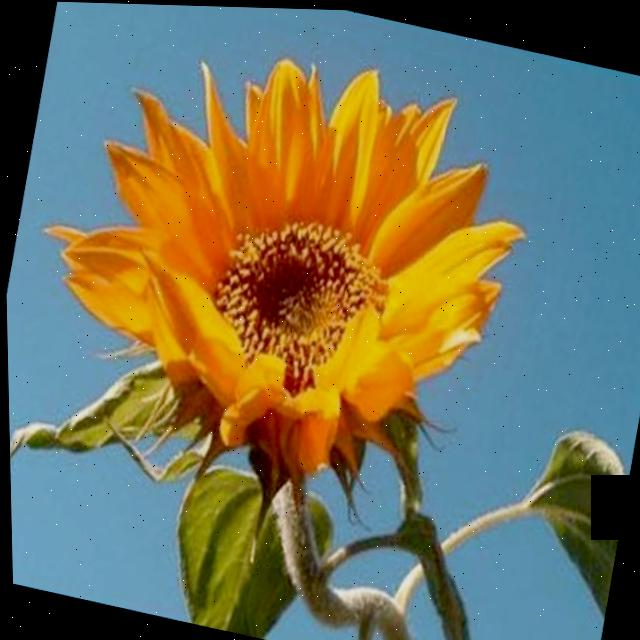sunflower: (14, 0, 598, 606)
